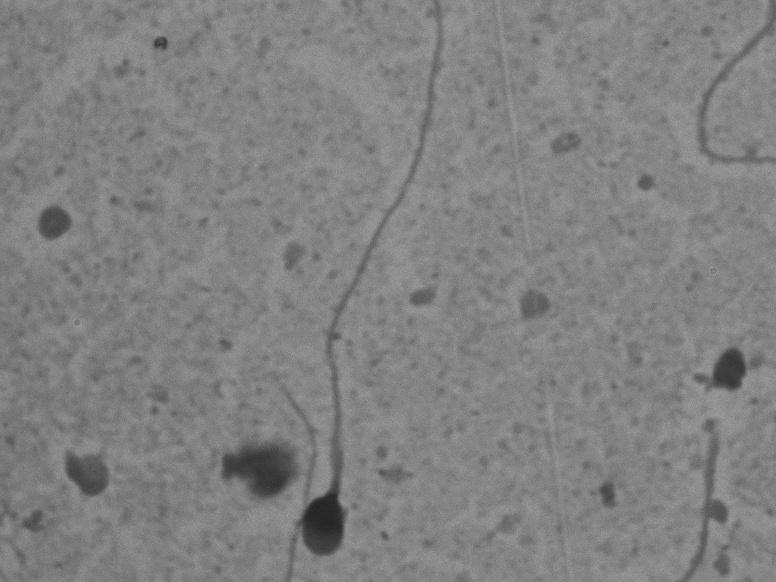Normal: (292, 14, 472, 560)
